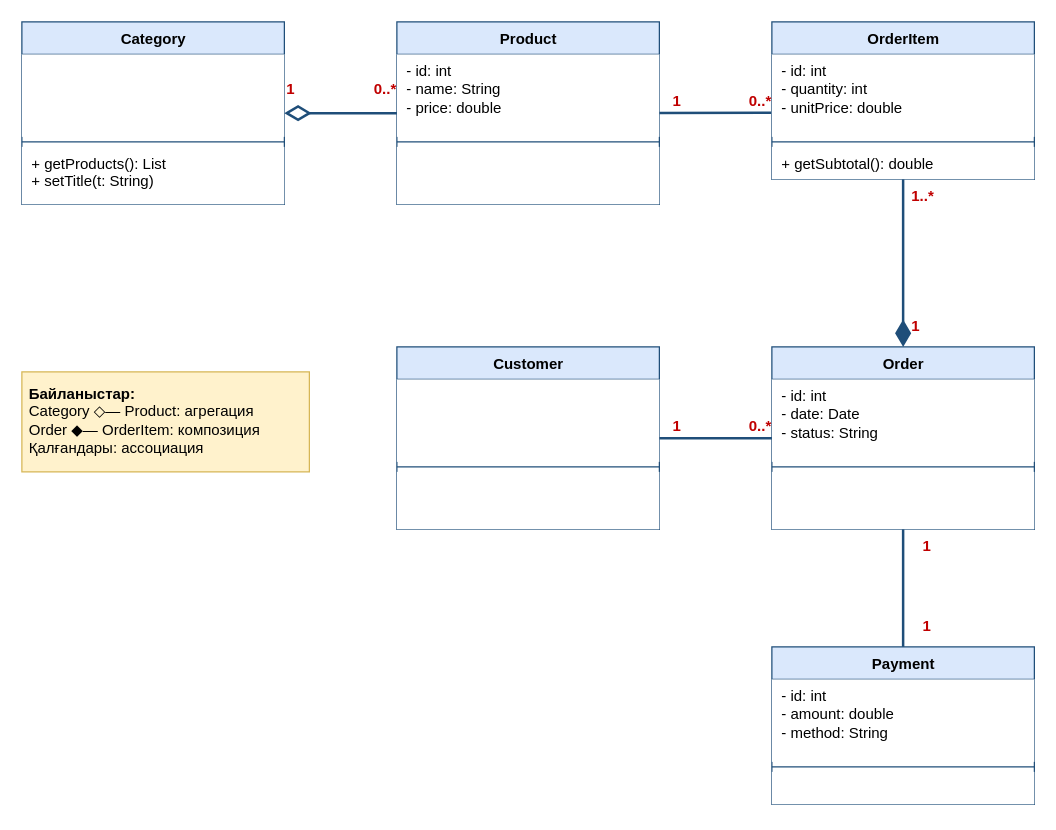
Some shapes in this 1056 by 830 pixel diagram are drawn without their labels. Here are the shapes that lost their labels. From the top down, the centre of each, then its label:
At point (152, 95): "- id: int - title: String - description: String".
At point (527, 175): "+ getPrice(): double + setPrice(p: double)".
At point (527, 420): "- id: int - name: String - email: String".
At point (527, 500): "+ login(): boolean + placeOrder(): Order".
At point (902, 500): "+ checkout() + getTotal(): double".
At point (902, 787): "+ pay(): boolean".
